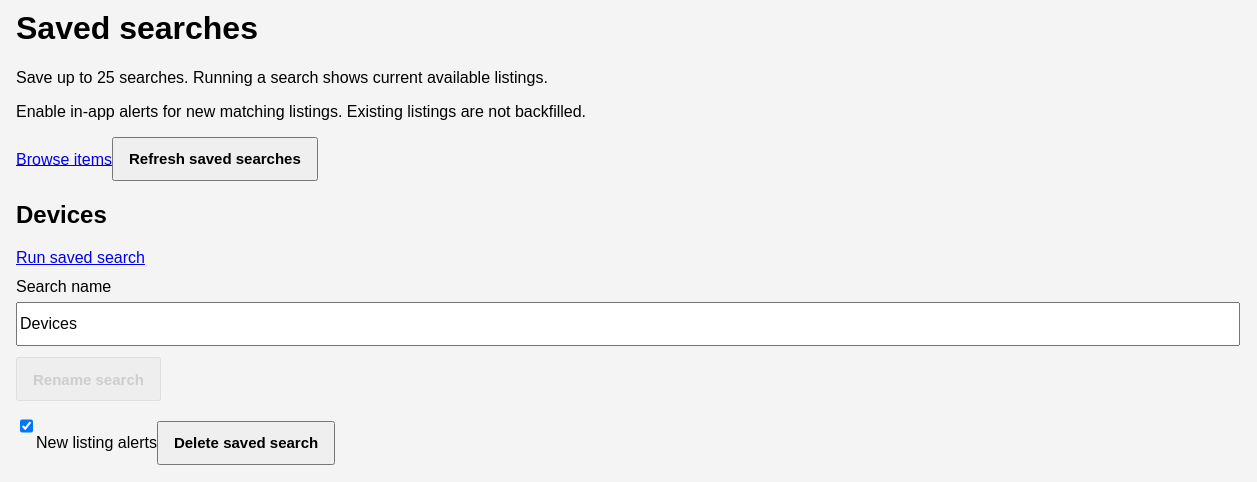
Scenario: saved-search opt out submits revision and reflects server state
Click the checkbox labelled "New listing alerts" at [26, 426], box [20,404,33,448]
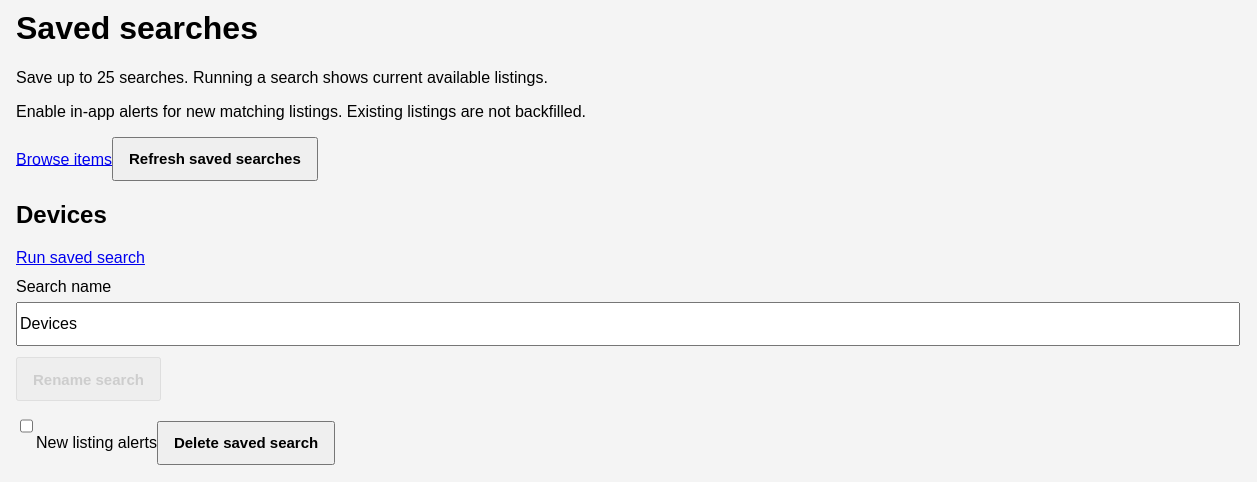
expect the checkbox labelled "New listing alerts" is not checked: met, box [20,404,33,448]
